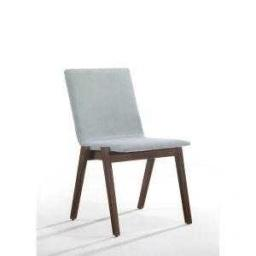Chair: (66, 70, 193, 237)
